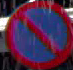No Stopping: (4, 1, 72, 69)
